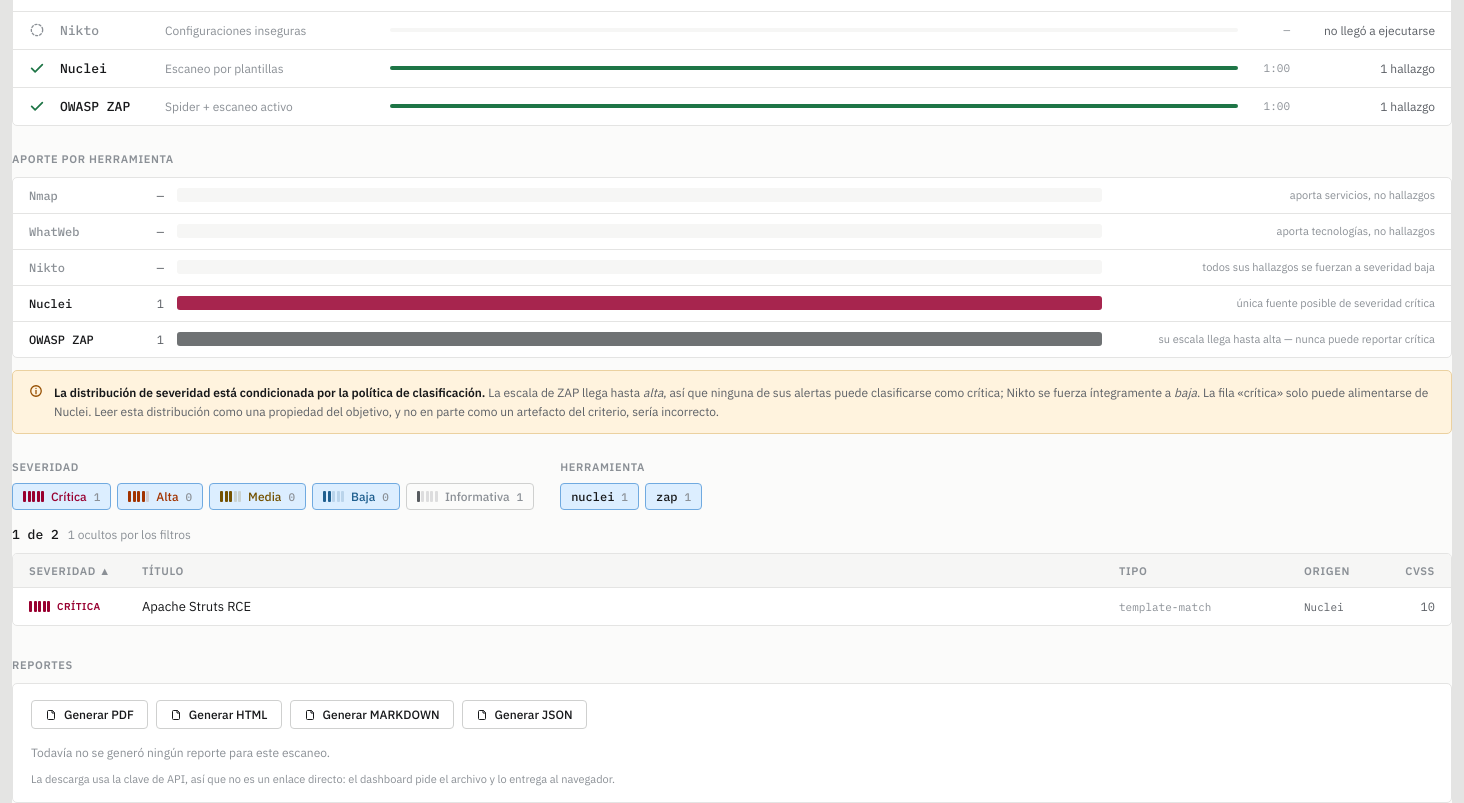
Test case: ScanDetailPage › shows description and evidence after clicking the row
(page scrolled)
Click the text "Apache Struts RCE".
click(196, 607)  # box [142,598,251,615]
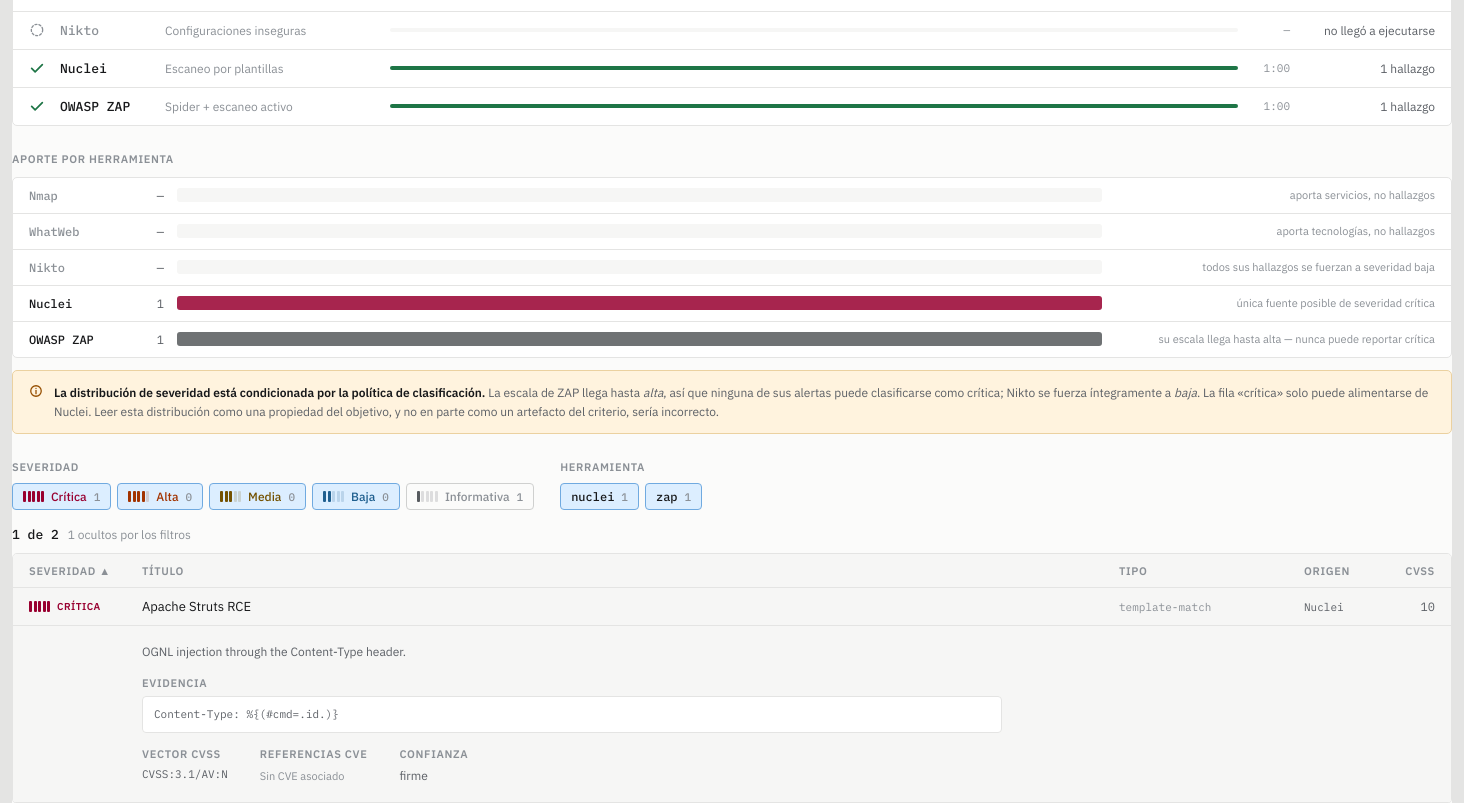
Expected: the text "OGNL injection through the Content-Type header." is shown, [142,644,406,659]
Expected: the text "Content-Type: %{(#cmd=.id.)}" is shown, [142,696,1002,733]
